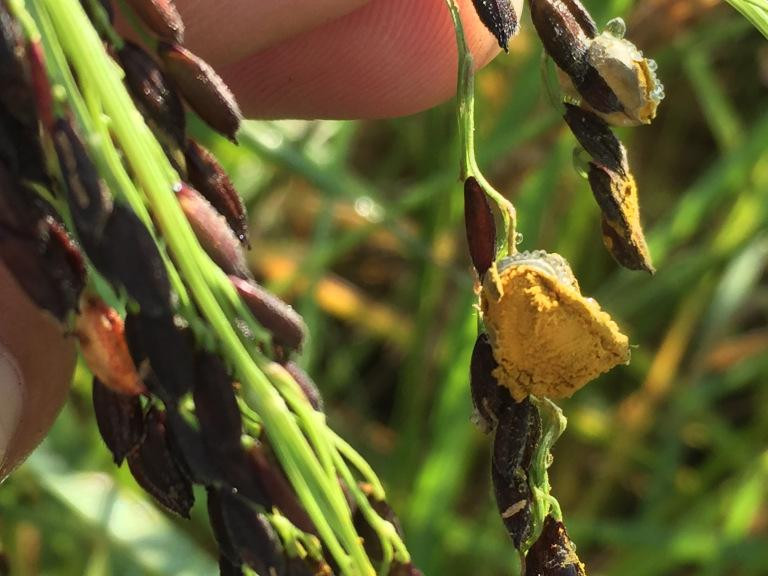False Smut: (473, 253, 647, 408), (540, 23, 663, 130), (585, 165, 665, 280)
